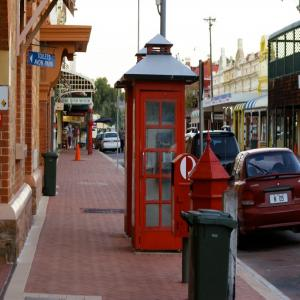Vehicle-registration-plate: (270, 195, 289, 205)
